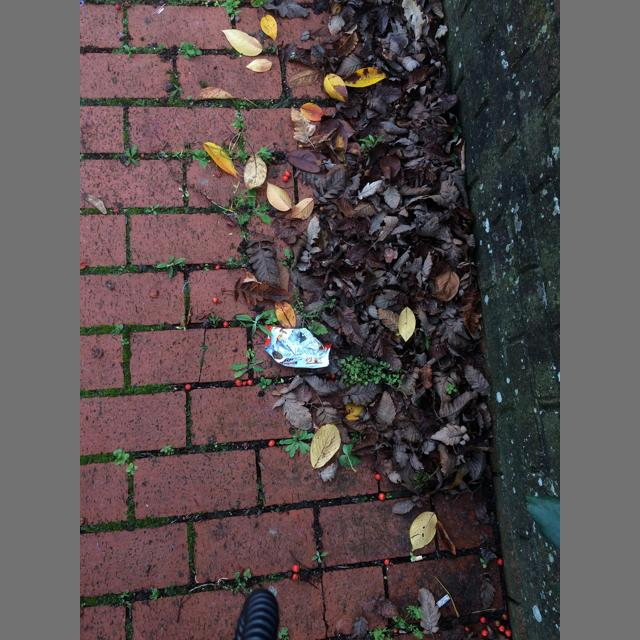litter: (264, 325, 333, 368), (437, 594, 451, 609), (411, 555, 422, 561)
